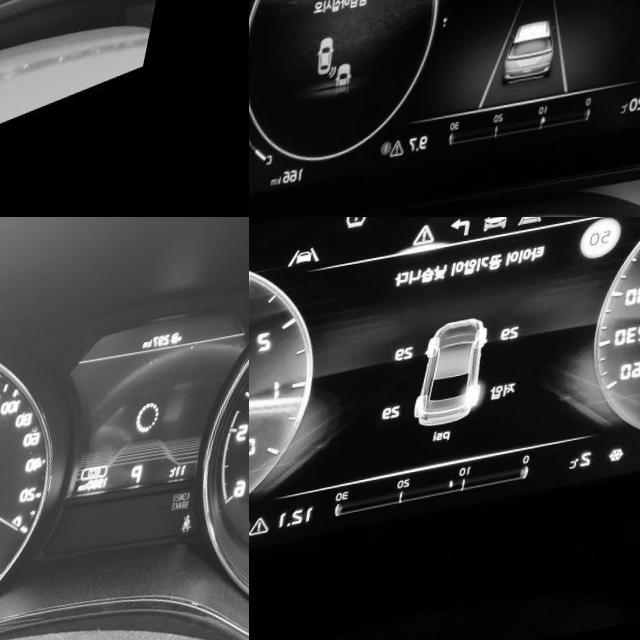Central Warning lamp: (422, 230, 447, 254), (269, 519, 292, 540), (408, 147, 426, 167)
LaneCenteringOff: (297, 249, 333, 271)
